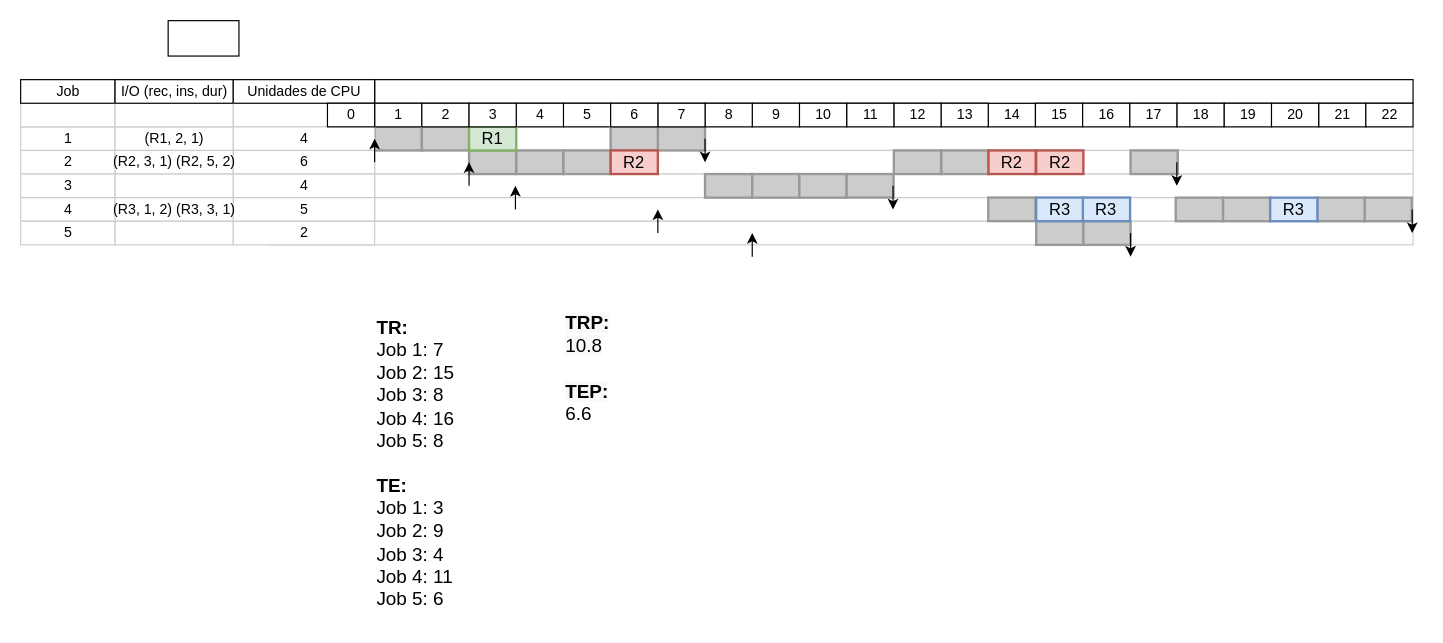
Image size: 1443x643. Some labels were removed from this diagram. Each missing label, with the box of its shape:
FCFS: (167, 19, 239, 56)
Instante de tiempo: (373, 78, 1413, 103)
